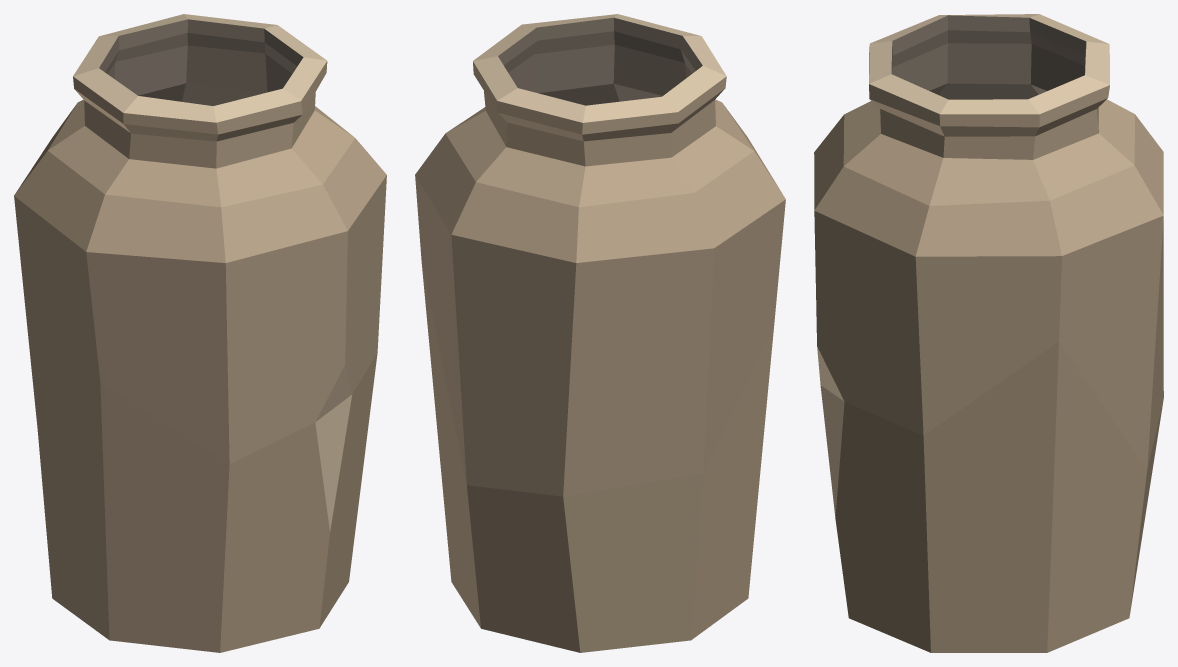
The model's file is SM_Prop_Pot_08.fbx.
3 views of the same model, side by side, from view 1: azimuth 30°, elevation 25°; view 2: azimuth 150°, elevation 25°; view 3: azimuth 270°, elevation 25° (orthographic).
Visible parts, largest first — view 1: SM_Prop_Pot_08; view 2: SM_Prop_Pot_08; view 3: SM_Prop_Pot_08.
Boxes of the visible parts, box(x1,y1,x2,y2) form: SM_Prop_Pot_08: box(14, 14, 386, 652); SM_Prop_Pot_08: box(415, 14, 785, 652); SM_Prop_Pot_08: box(814, 14, 1163, 652).
Size of the model in its own units: 0.331 by 0.5571 by 0.3286.
1 material, 1 textured.
